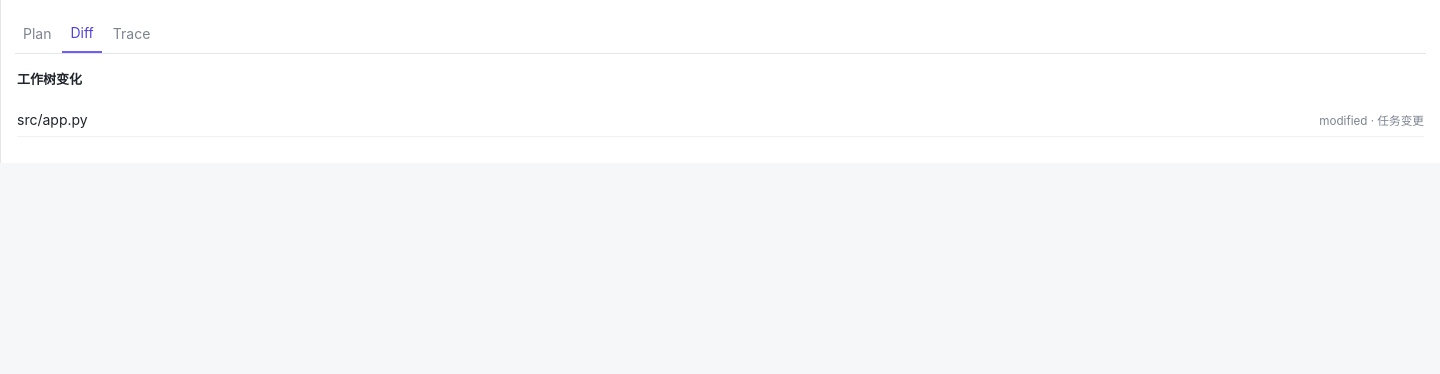
it: RightPanel diff › keeps files collapsed by default and renders unified patch line styles
Click the text "src/app.py" at point(52, 120), box [17,111,88,128]
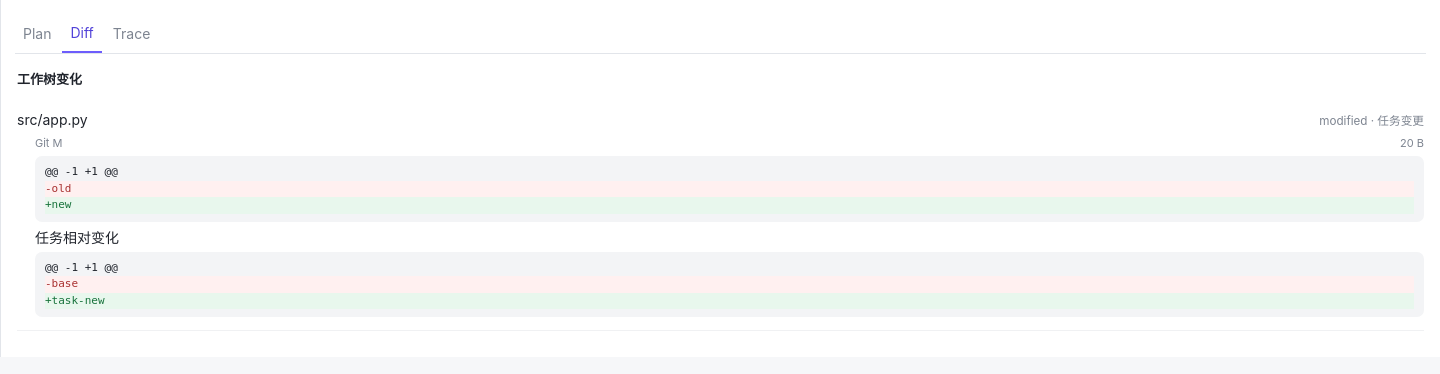
Expected: the text "任务相对变化" is shown, [35,228,119,246]
